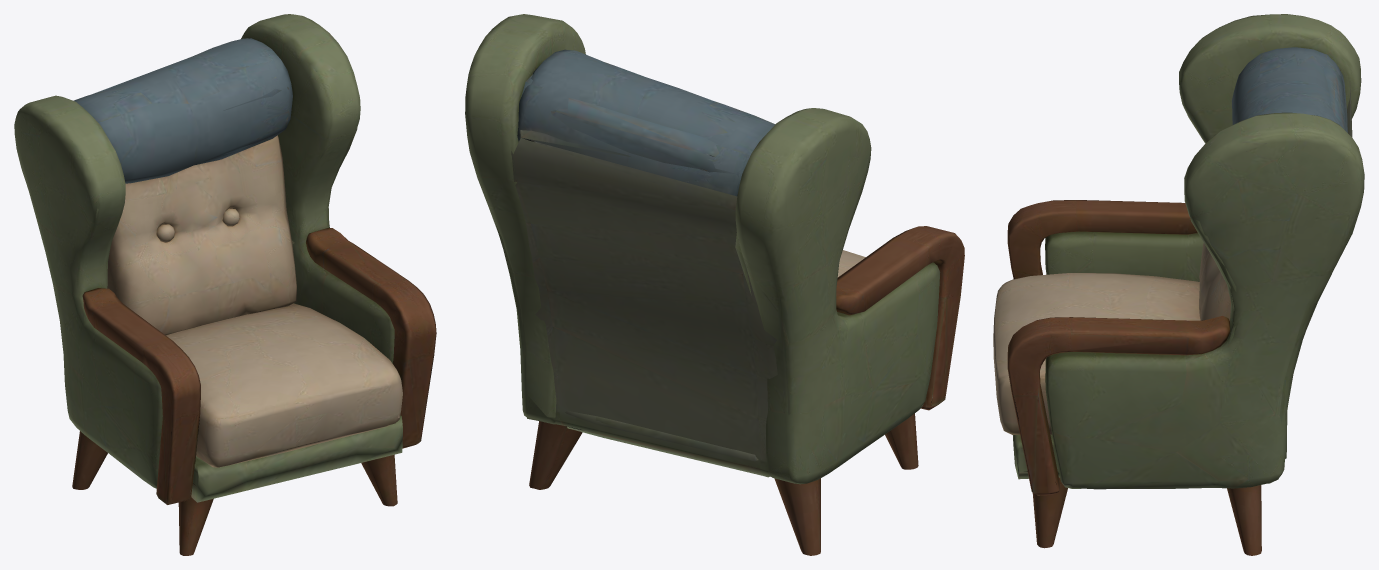
Rendered from armchair.wing.glb.
3 views of the same model, side by side, from view 1: azimuth 30°, elevation 25°; view 2: azimuth 150°, elevation 25°; view 3: azimuth 270°, elevation 25° (orthographic). The views are drawn at different scales.
Parts seen in each view (by area): view 1: geometry_0; view 2: geometry_0; view 3: geometry_0.
Boxes of the visible parts, box(x1,y1,x2,y2) form: geometry_0: box(14, 14, 436, 555); geometry_0: box(465, 14, 964, 555); geometry_0: box(993, 14, 1364, 555).
Bounding box in the file's own units: 0.7483 × 1 × 0.7793.
Materials: 1 (1 with a texture image).
